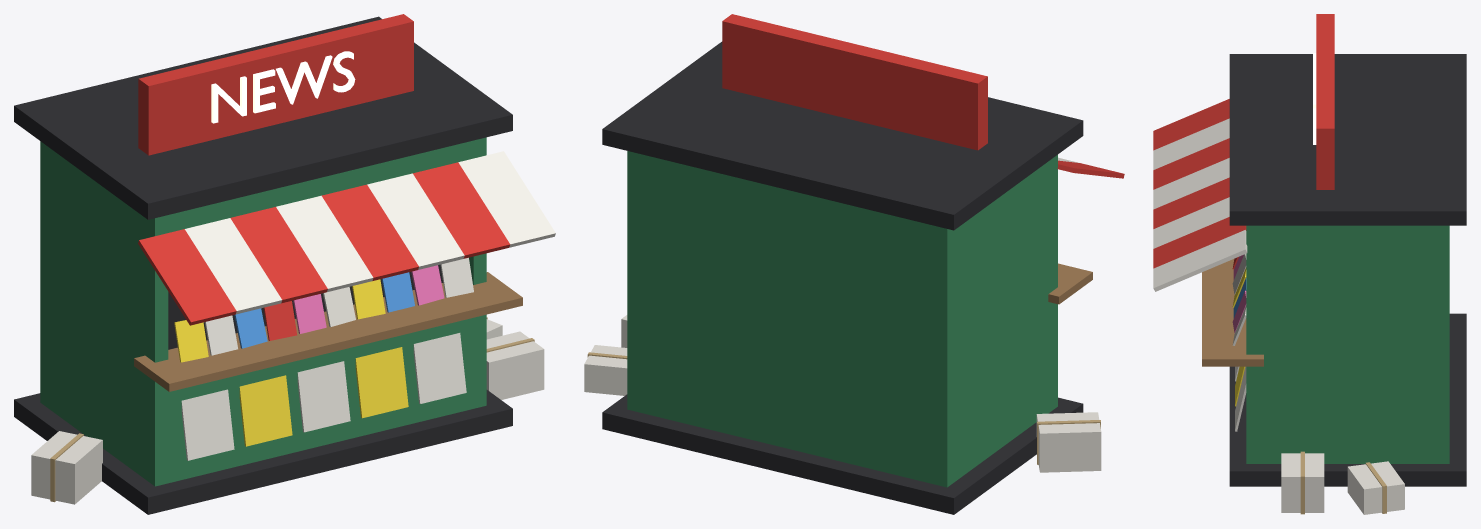
The model's file is newsstand.glb.
The picture shows the model from 3 angles, left to right: view 1: azimuth 30°, elevation 25°; view 2: azimuth 150°, elevation 25°; view 3: azimuth 270°, elevation 25°; orthographic projection. The views are drawn at different scales.
Visible parts, largest first — view 1: Newsstand; view 2: Newsstand; view 3: Newsstand.
Boxes of the visible parts, <box> form: Newsstand: <box>14,14,555,514</box>; Newsstand: <box>584,14,1124,514</box>; Newsstand: <box>1153,14,1466,514</box>.
Size of the model in its own units: 4.51 by 3.3 by 2.77.
